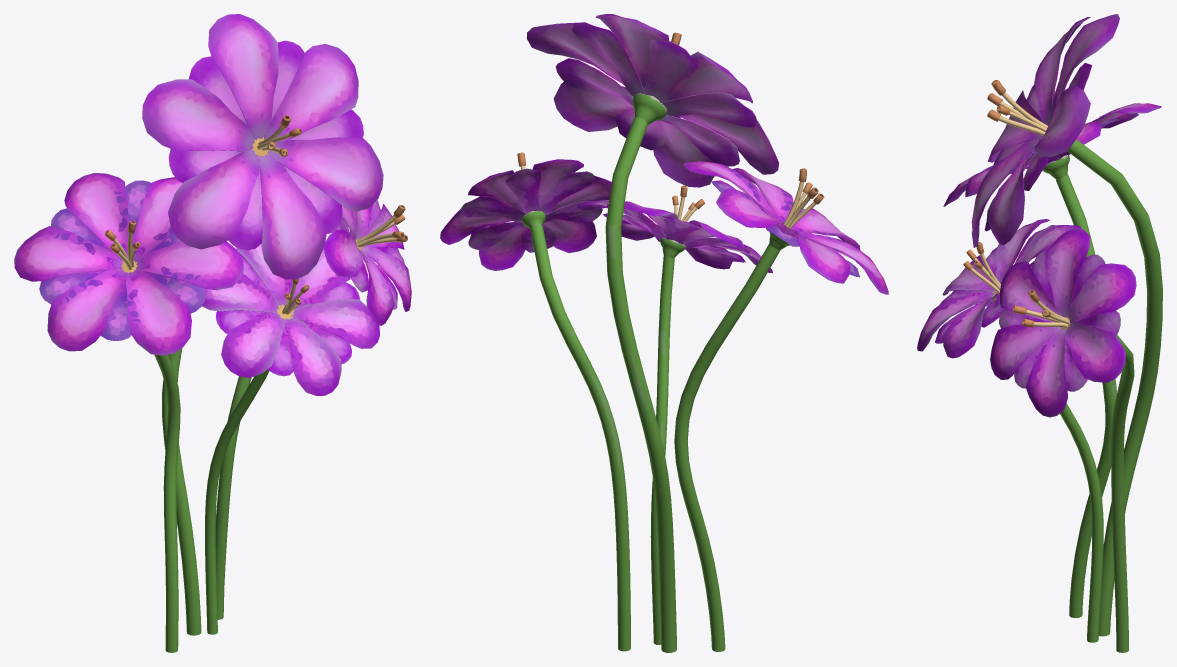
Rendered from flower_1(M).fbx.
The picture shows the model from 3 angles, left to right: view 1: azimuth 30°, elevation 25°; view 2: azimuth 150°, elevation 25°; view 3: azimuth 270°, elevation 25°; orthographic projection. The views are drawn at different scales.
Parts seen in each view (by area): view 1: Plane.002, Plane.010, Plane.008, Plane.003, Plane.006, Plane.011, NurbsPath.009, NurbsPath.007, NurbsPath.001, Plane.009, NurbsPath.005, Plane.007 (+3 smaller); view 2: Plane.002, Plane.003, NurbsPath.001, Plane.010, Plane.006, NurbsPath.005, NurbsPath.009, Plane.007, NurbsPath.007, Plane.008, Plane.009, NurbsPath.008 (+2 smaller); view 3: Plane.006, Plane.002, NurbsPath.001, Plane.008, NurbsPath.005, NurbsPath.009, Plane.007, NurbsPath.007, Plane.010, Plane.003, NurbsPath.004, Plane.009 (+3 smaller).
Boxes of the visible parts, x1,y1,x2,y2 form: Plane.002: [142, 14, 383, 279]; Plane.010: [14, 173, 243, 355]; Plane.008: [202, 244, 379, 395]; Plane.003: [168, 40, 363, 250]; Plane.006: [324, 204, 411, 325]; Plane.011: [39, 180, 205, 340]; NurbsPath.009: [154, 354, 180, 652]; NurbsPath.007: [205, 369, 268, 634]; NurbsPath.001: [162, 348, 201, 635]; Plane.009: [215, 252, 359, 376]; NurbsPath.005: [215, 376, 251, 619]; Plane.007: [331, 200, 404, 309]; Plane.002: [526, 14, 778, 187]; Plane.003: [555, 22, 757, 166]; NurbsPath.001: [605, 117, 676, 652]; Plane.010: [683, 161, 888, 294]; Plane.006: [440, 159, 611, 270]; NurbsPath.005: [530, 223, 630, 651]; NurbsPath.009: [674, 244, 780, 651]; Plane.007: [460, 168, 602, 252]; NurbsPath.007: [650, 255, 674, 644]; Plane.008: [576, 199, 772, 272]; Plane.009: [602, 204, 749, 262]; NurbsPath.008: [783, 168, 824, 229]; Plane.006: [990, 228, 1136, 417]; Plane.002: [971, 14, 1119, 247]; NurbsPath.001: [1067, 139, 1162, 636]; Plane.008: [917, 219, 1081, 358]; NurbsPath.005: [1111, 335, 1134, 652]; NurbsPath.009: [1056, 174, 1116, 617]; Plane.007: [999, 251, 1120, 391]; NurbsPath.007: [1060, 403, 1103, 642]; Plane.010: [943, 103, 1161, 206]; Plane.003: [984, 63, 1092, 231]; NurbsPath.004: [987, 80, 1047, 135]; Plane.009: [935, 225, 1054, 343].
Bounding box in the file's own units: 26.68 × 39.82 × 13.94.
